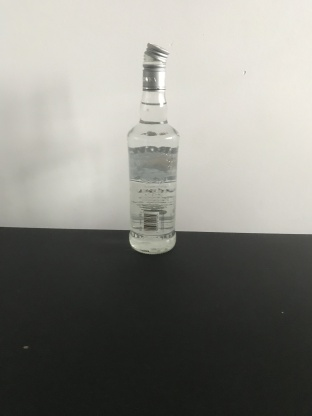nakretka: (141, 41, 170, 92)
